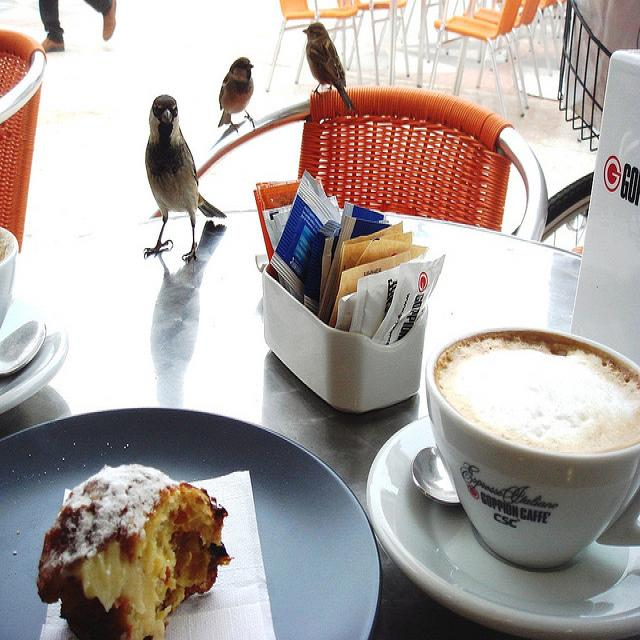chair: (197, 86, 547, 245), (0, 20, 45, 325), (426, 3, 525, 123), (265, 0, 315, 94), (360, 1, 412, 82), (318, 0, 364, 84), (512, 0, 545, 106), (537, 1, 561, 71), (474, 7, 501, 24)
dining table: (0, 199, 640, 630)
